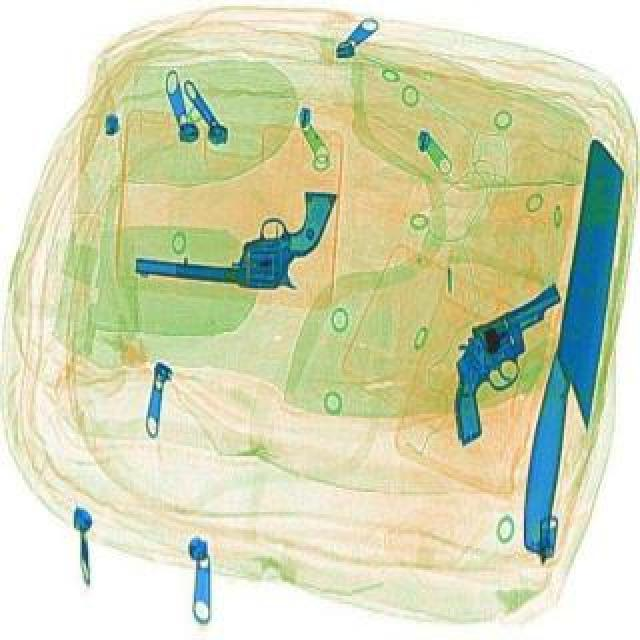gun: (404, 286, 608, 450), (132, 180, 336, 298)
knife: (516, 140, 628, 562)
